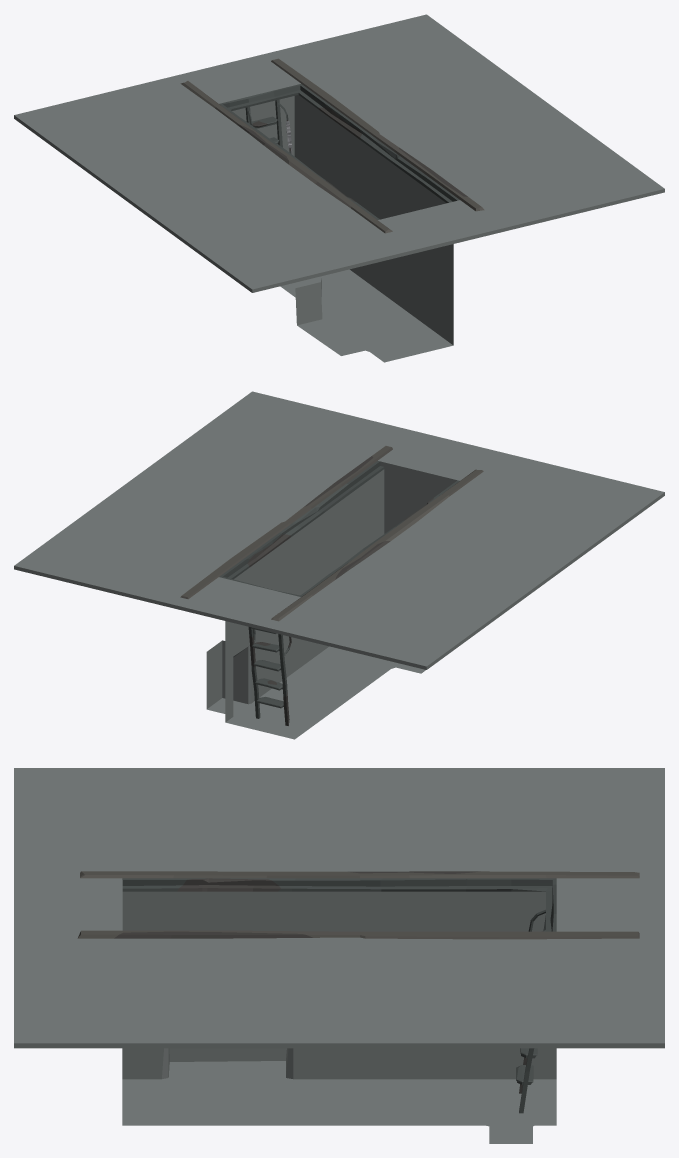
File: SM_Floor_Pit_6x3_B.gltf
3 renders of one model, top to bottom at view 1: azimuth 30°, elevation 25°; view 2: azimuth 150°, elevation 25°; view 3: azimuth 270°, elevation 25°, orthographic. The views are drawn at different scales.
Visible parts, largest first — view 1: SM_Floor_Pit_6x3_B; view 2: SM_Floor_Pit_6x3_B; view 3: SM_Floor_Pit_6x3_B.
Boxes of the visible parts, left/top/right/bottom form: SM_Floor_Pit_6x3_B: left=14, top=14, right=664, bottom=362; SM_Floor_Pit_6x3_B: left=14, top=391, right=664, bottom=739; SM_Floor_Pit_6x3_B: left=14, top=768, right=664, bottom=1143.
Size of the model in its own units: 6 by 2.03 by 6.
1 material, 1 textured.
